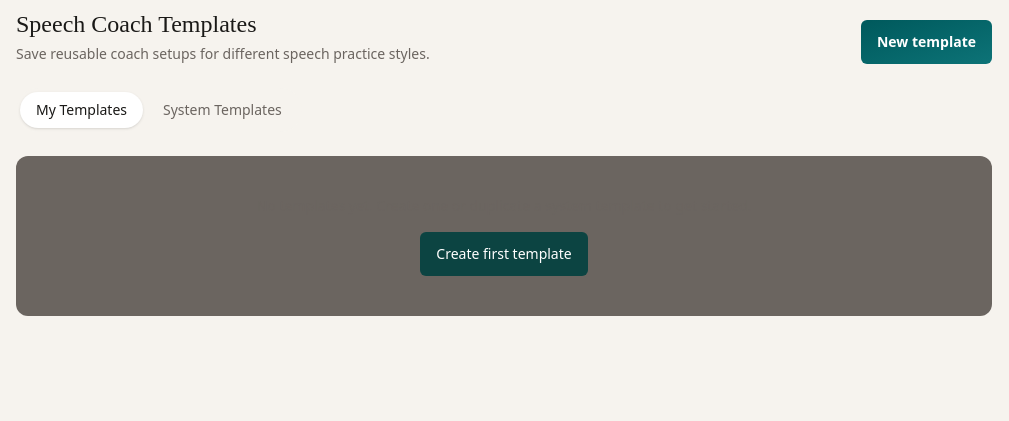
Test: TemplateLibraryPage › shows system templates in the system tab
Click the button "System Templates".
click(222, 110)  # box [147,92,298,128]
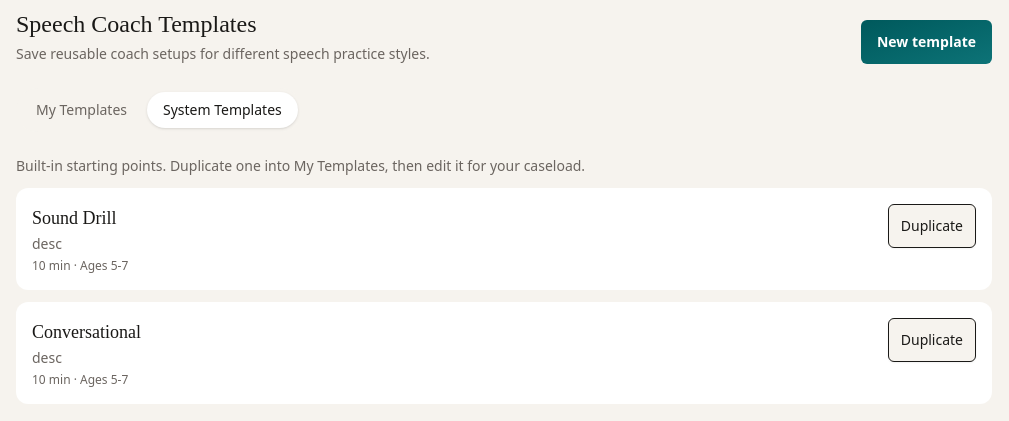
Expected: the text "Sound Drill" is shown, [32,204,128,232]
Expected: the text "Conversational" is shown, [32,318,141,346]
